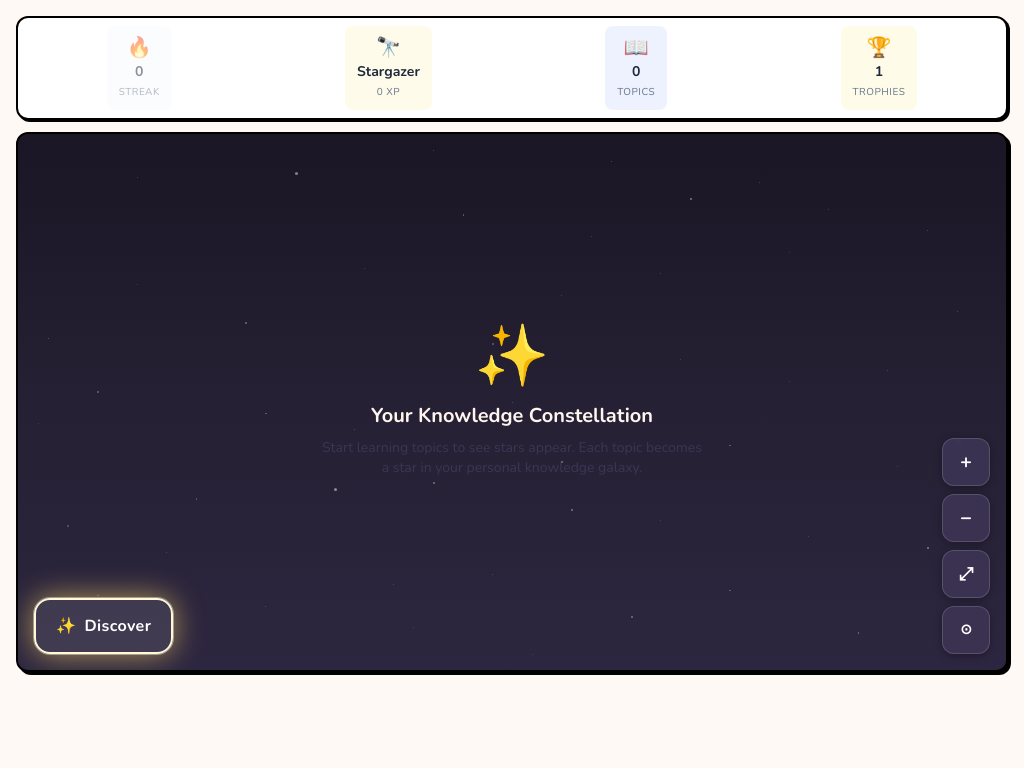
Test case: ProgressTab trophy row › renders trophies when provided
Click the button with test id "stat-trophies" at (879, 68), box [841,26,917,110]
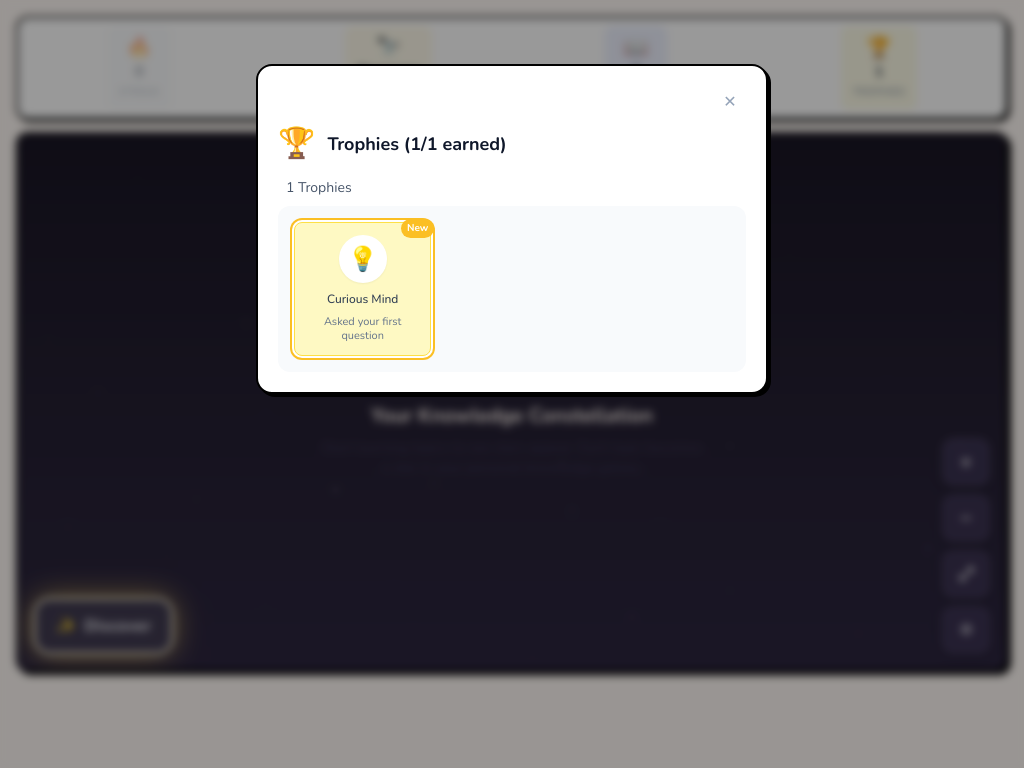
Now the text "Curious Mind" is shown, box [327,291,398,307]
